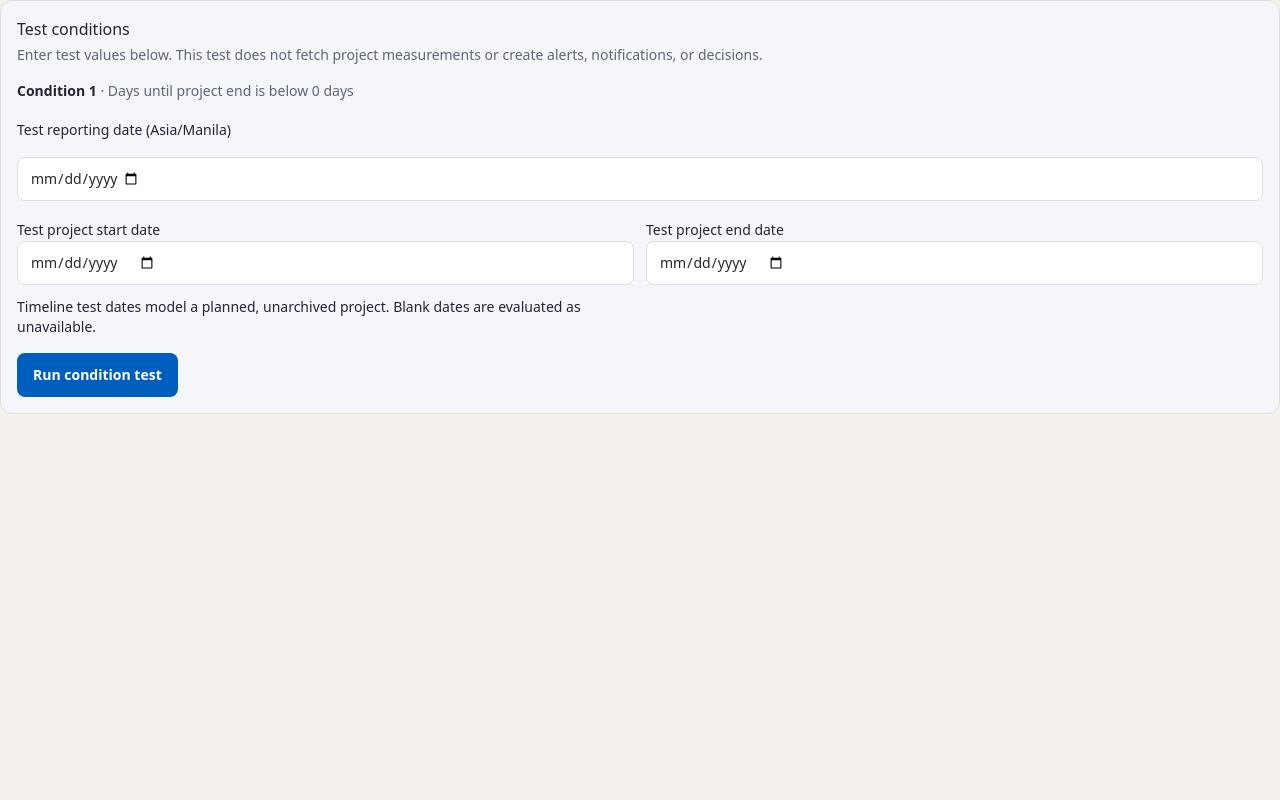
Test: synthetic rule condition testing › derives an exact timeline observation from entered test dates without reading live project data
In the date field labelled "Test reporting date (Asia/Manila)": (640, 179) [17,157,1263,201], type "2026-09-27"
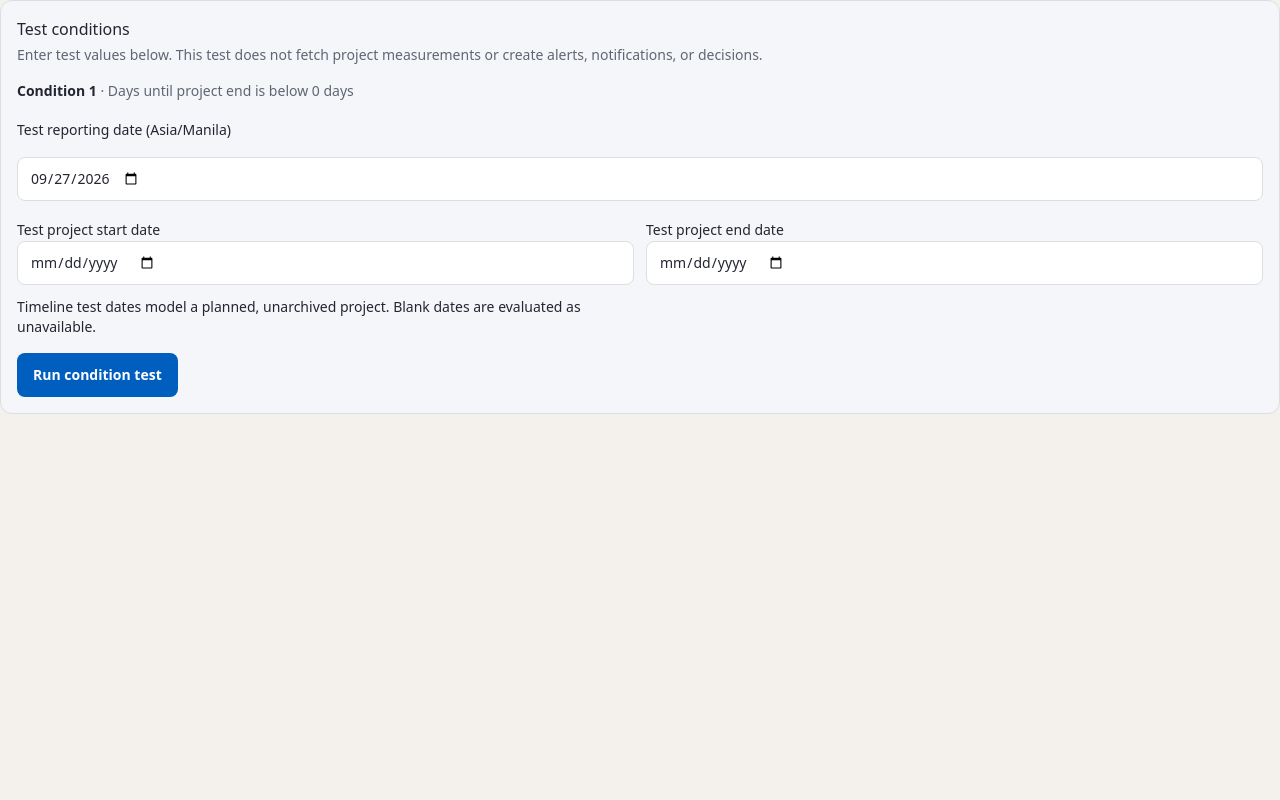
In the date field labelled "Test project start date": (326, 263) [17,241,634,285], type "2026-09-01"
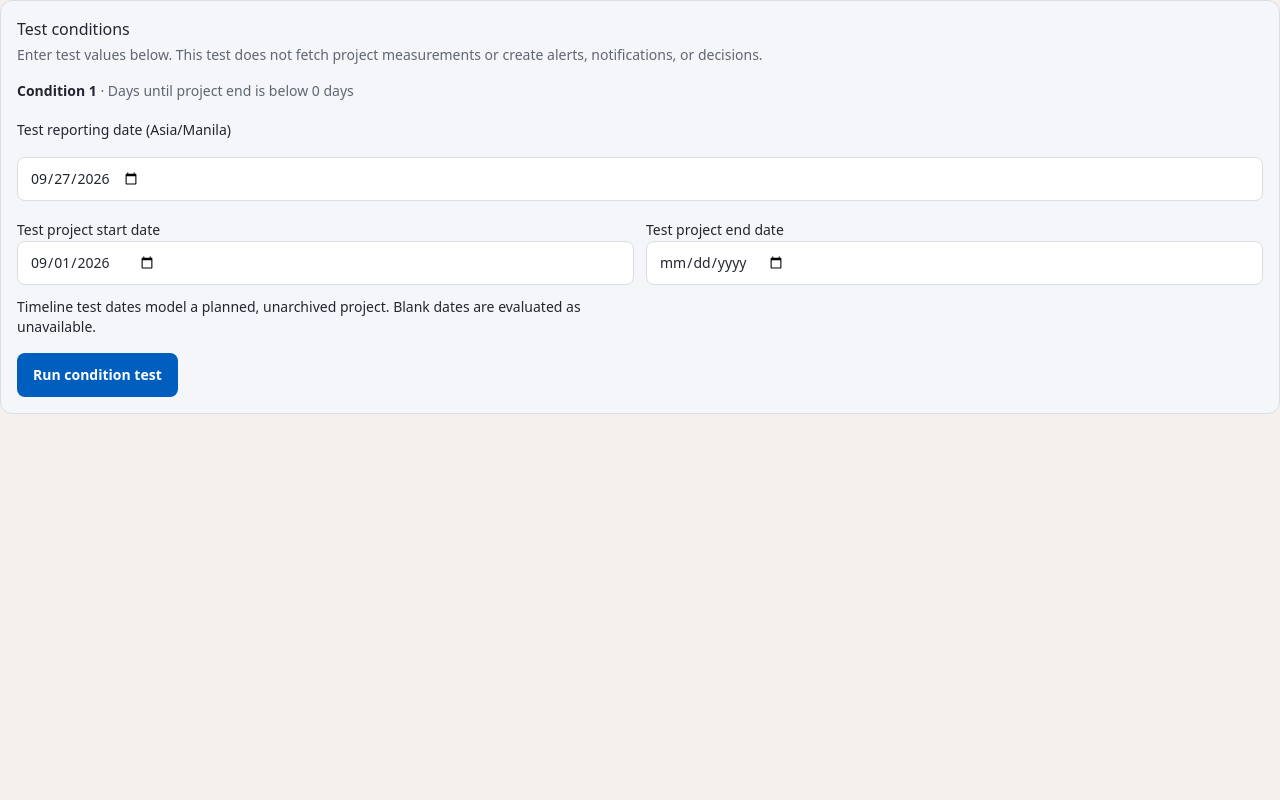
In the date field labelled "Test project end date": (954, 263) [646,241,1263,285], type "2026-09-25"
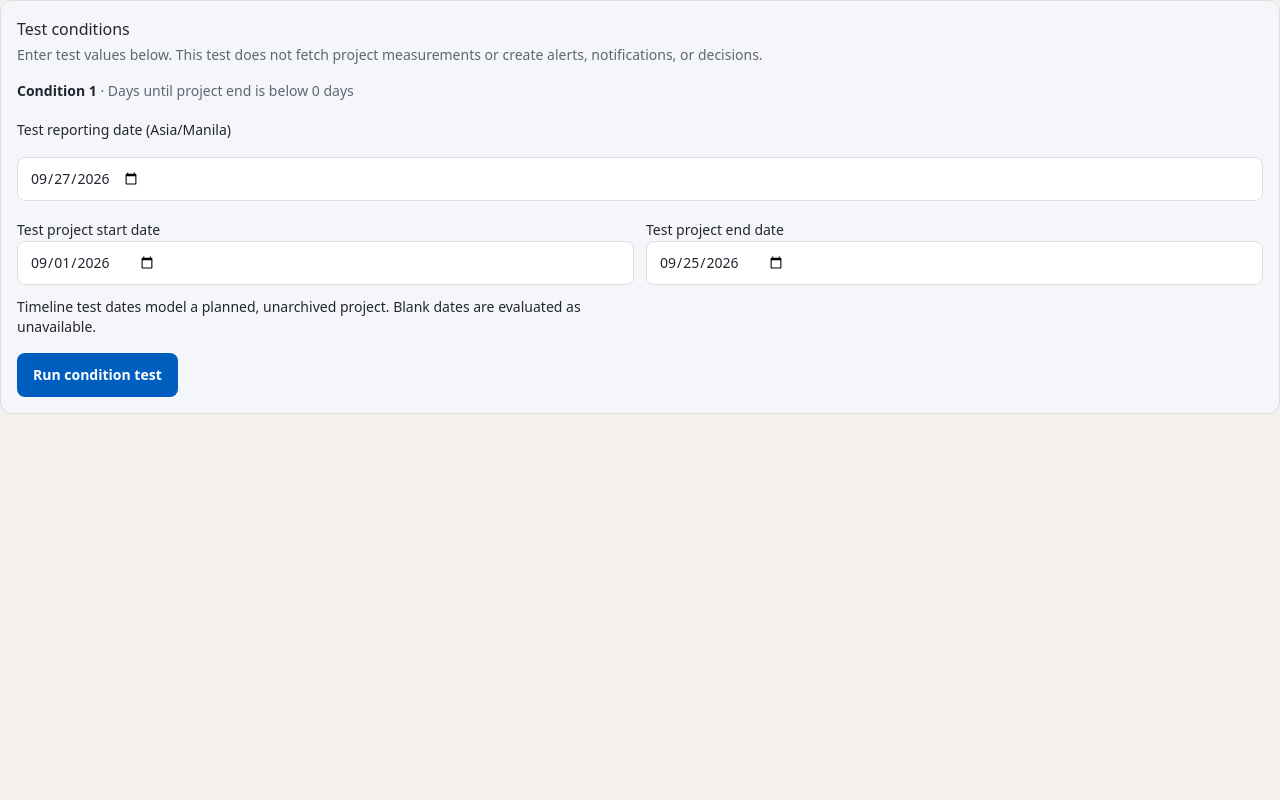
Click the button "Run condition test": (97, 375) [17,353,178,397]
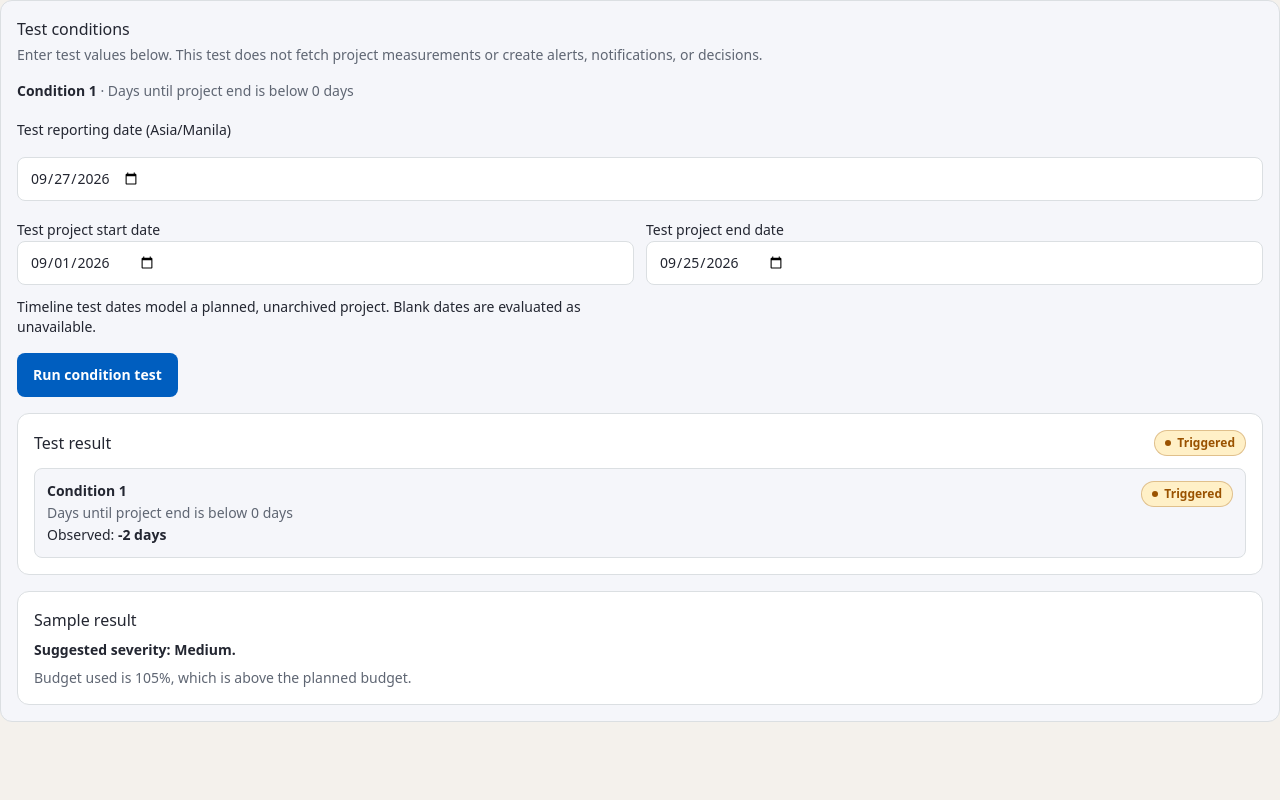
Expected: the heading "Test result" is shown, [34,431,111,455]
Expected: the text "Triggered" is shown 2 times, [1154,430,1246,456]; [1141,481,1233,507]
Expected: the text "-2 days" is shown, [118,525,166,544]
